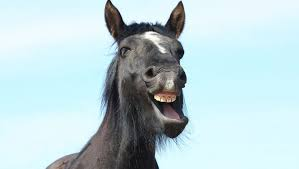horse: (46, 1, 187, 169)
